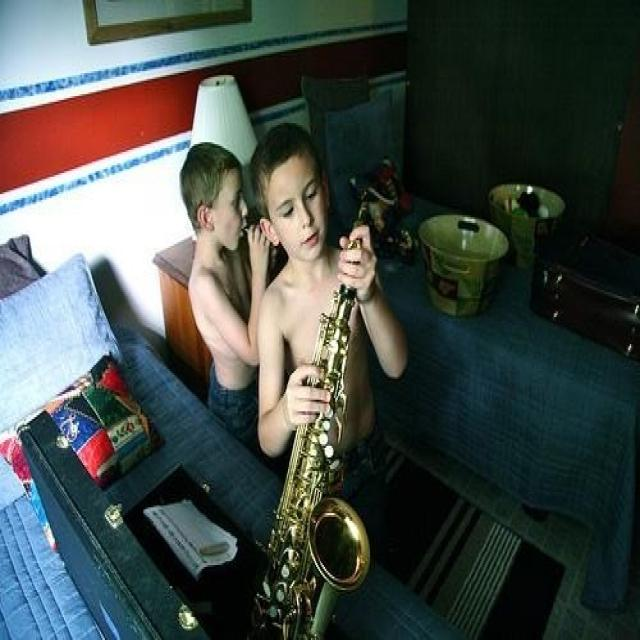saxophone: (248, 185, 375, 638)
